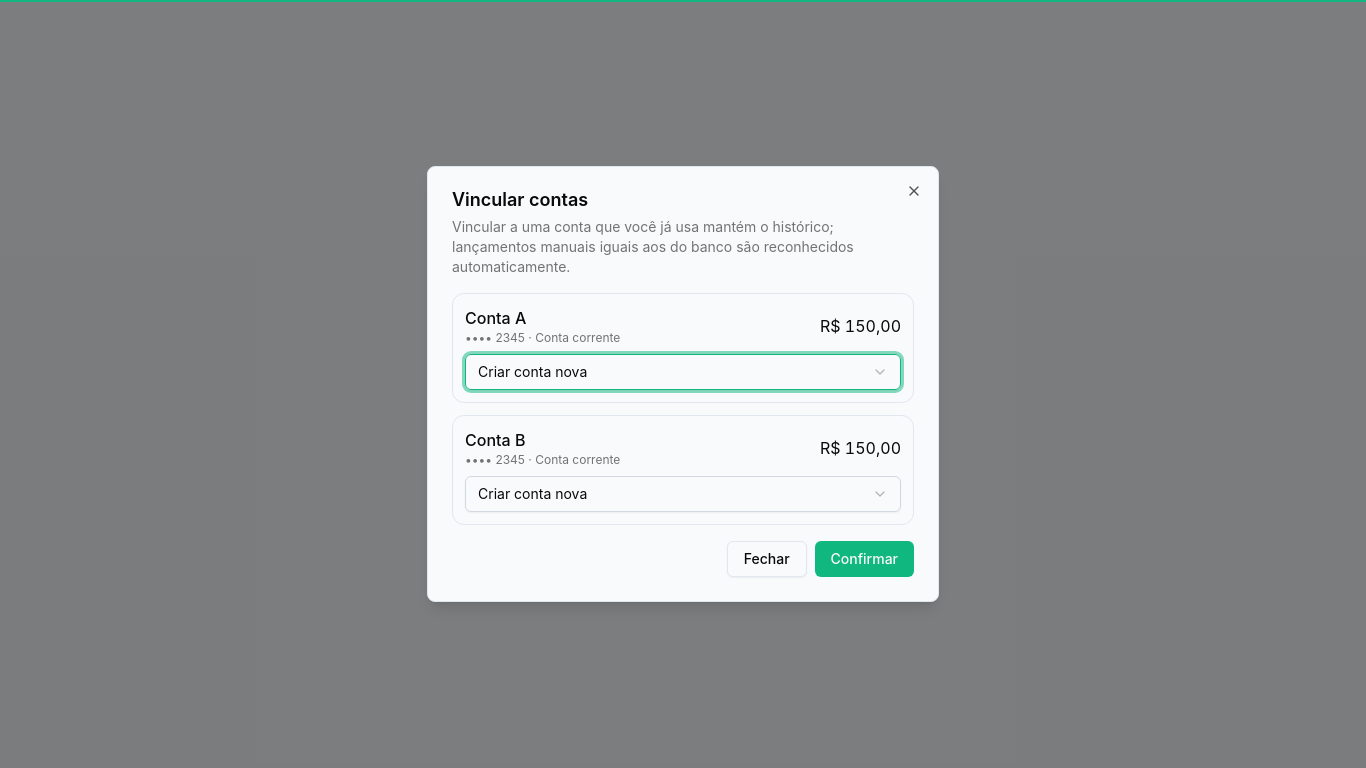
Test: LinkAccountsDialog › 422 em links.N.account_id mostra o erro na linha certa
The width and height of the screenshot is (1366, 768).
Click the button "Confirmar" at x=864, y=559, box left=815, top=541, right=914, bottom=577
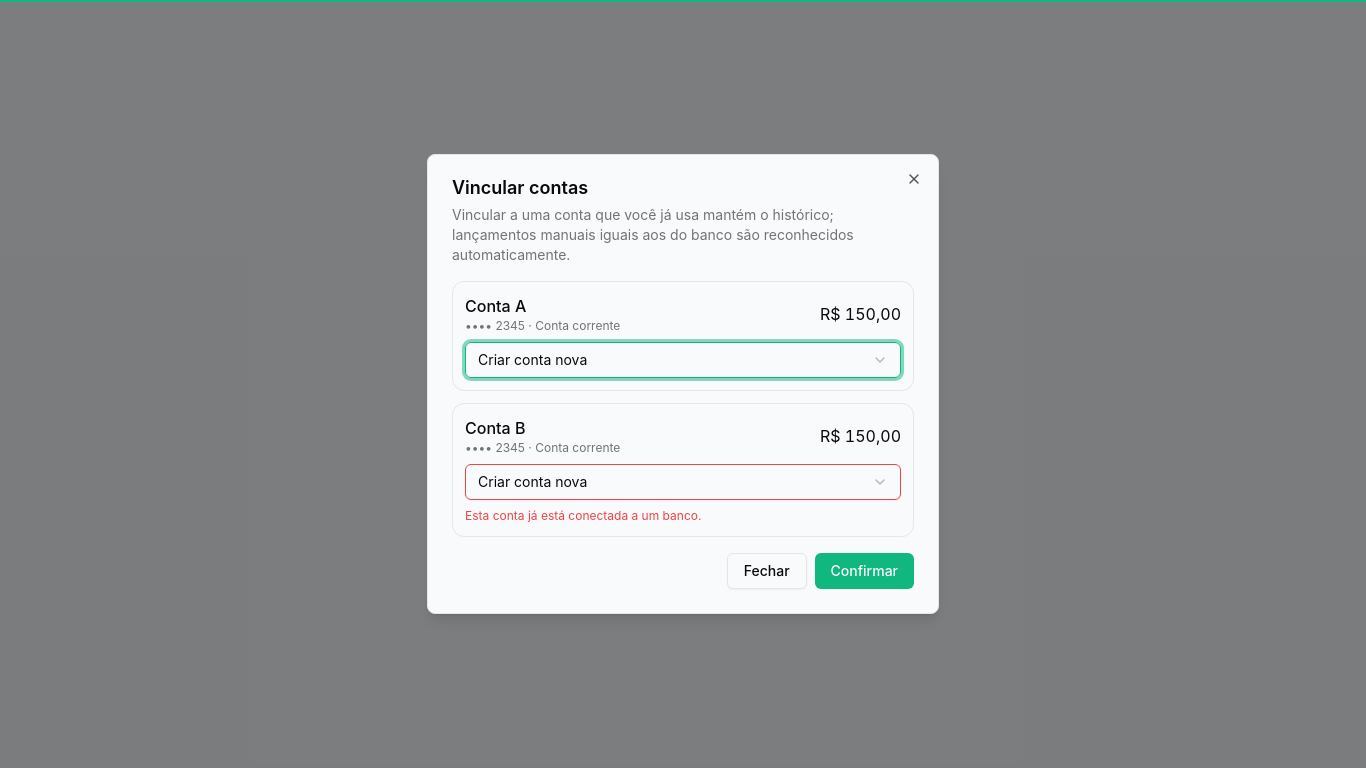
Check: the text "Esta conta já está conectada a um banco." is shown, box left=465, top=508, right=701, bottom=523
